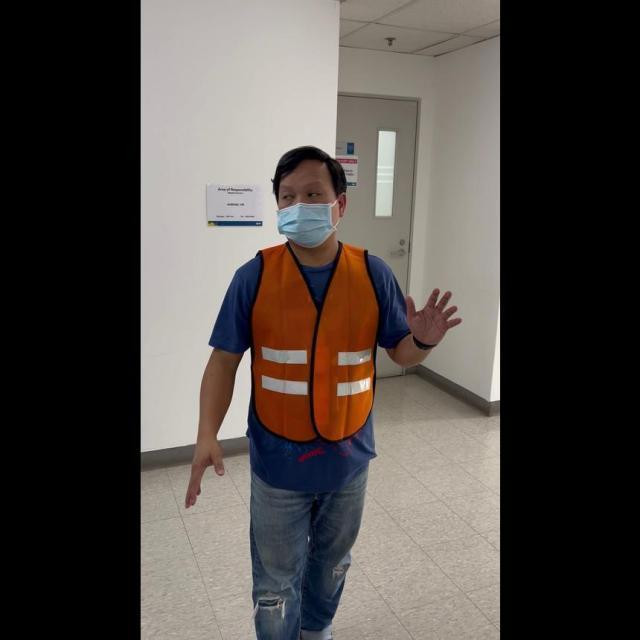bare_hand: (404, 282, 462, 348), (182, 431, 225, 508)
